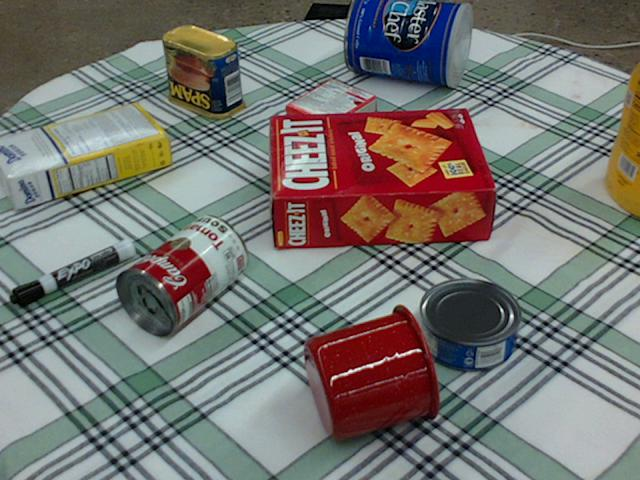cracker_box: (271, 107, 494, 247)
gelatin_box: (284, 75, 375, 143)
large_marker: (7, 238, 133, 307)
master_chef_can: (343, 0, 470, 86)
mug: (302, 300, 442, 442)
mustard_bottle: (604, 60, 639, 217)
potted_meat_can: (162, 25, 244, 118)
sugar_box: (0, 103, 170, 207)
tomato_soup_can: (115, 212, 247, 335)
tuna_fish_can: (419, 277, 522, 371)
